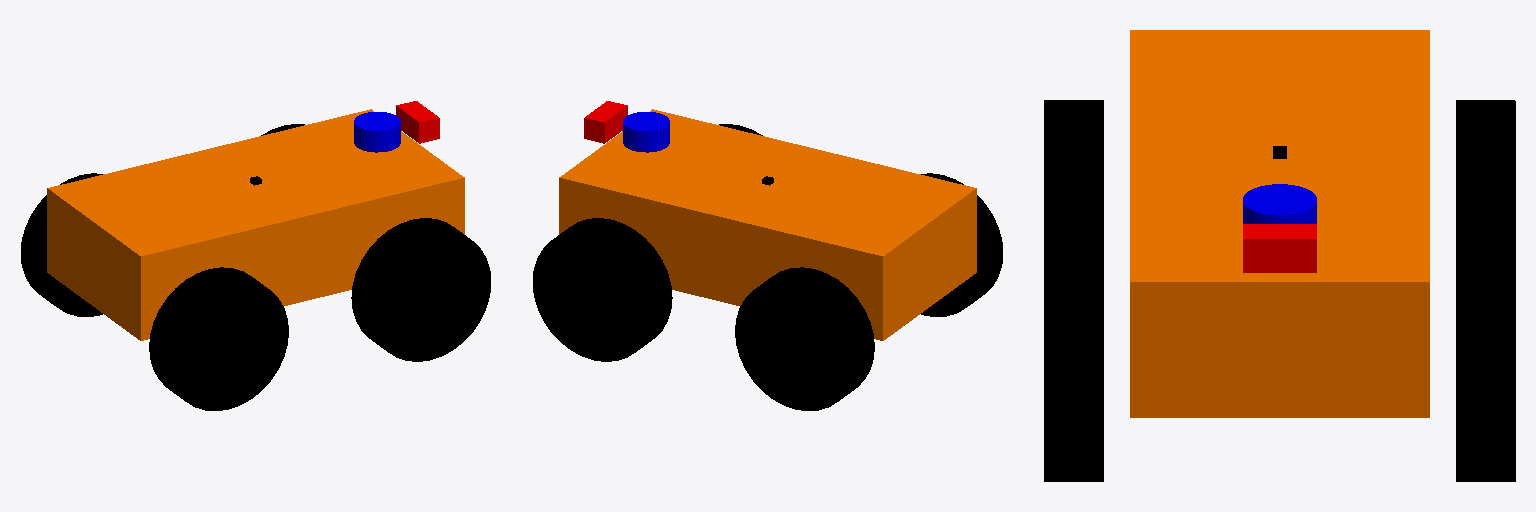
The robot description file, URDF, robot "delivery_robot":
<?xml version="1.0" ?>
<!-- =================================================================================== -->
<!-- |    This document was autogenerated by xacro from src/simulation/urdf/robot.urdf.xacro | -->
<!-- |    EDITING THIS FILE BY HAND IS NOT RECOMMENDED                                 | -->
<!-- =================================================================================== -->
<robot name="delivery_robot">
  <link name="base_footprint"/>
  <link name="base_link">
    <visual>
      <geometry>
        <box size="0.8 0.4 0.2"/>
      </geometry>
      <material name="orange">
        <color rgba="1 0.5 0 1"/>
      </material>
    </visual>
    <collision>
      <geometry>
        <box size="0.8 0.4 0.2"/>
      </geometry>
    </collision>
    <inertial>
      <mass value="20.0"/>
      <inertia ixx="1.1333333333333337" ixy="0" ixz="0" iyy="1.3333333333333337" iyz="0" izz="0.3333333333333334"/>
    </inertial>
  </link>
  <joint name="base_joint" type="fixed">
    <parent link="base_footprint"/>
    <child link="base_link"/>
    <origin rpy="0 0 0" xyz="0 0 0.15"/>
  </joint>
  <link name="rear_left_wheel">
    <visual>
      <geometry>
        <cylinder length="0.08" radius="0.15"/>
      </geometry>
      <material name="black">
        <color rgba="0 0 0 1"/>
      </material>
    </visual>
    <collision>
      <geometry>
        <cylinder length="0.08" radius="0.15"/>
      </geometry>
    </collision>
    <inertial>
      <mass value="2.0"/>
      <inertia ixx="0.012316666666666665" ixy="0" ixz="0" iyy="0.012316666666666665" iyz="0" izz="0.0225"/>
    </inertial>
  </link>
  <joint name="rear_left_wheel_joint" type="continuous">
    <parent link="base_link"/>
    <child link="rear_left_wheel"/>
    <origin rpy="-1.5707 0 0" xyz="-0.25 0.275 -0.1"/>
    <dynamics damping="0.5" friction="0.1"/>
    <axis xyz="0 0 1"/>
  </joint>
  <link name="rear_right_wheel">
    <visual>
      <geometry>
        <cylinder length="0.08" radius="0.15"/>
      </geometry>
      <material name="black">
        <color rgba="0 0 0 1"/>
      </material>
    </visual>
    <collision>
      <geometry>
        <cylinder length="0.08" radius="0.15"/>
      </geometry>
    </collision>
    <inertial>
      <mass value="2.0"/>
      <inertia ixx="0.012316666666666665" ixy="0" ixz="0" iyy="0.012316666666666665" iyz="0" izz="0.0225"/>
    </inertial>
  </link>
  <joint name="rear_right_wheel_joint" type="continuous">
    <parent link="base_link"/>
    <child link="rear_right_wheel"/>
    <origin rpy="-1.5707 0 0" xyz="-0.25 -0.275 -0.1"/>
    <dynamics damping="0.5" friction="0.1"/>
    <axis xyz="0 0 1"/>
  </joint>
  <link name="front_left_steering_link">
    <inertial>
      <mass value="0.1"/>
      <inertia ixx="0.01" ixy="0" ixz="0" iyy="0.01" iyz="0" izz="0.01"/>
    </inertial>
  </link>
  <joint name="front_left_steering_joint" type="revolute">
    <parent link="base_link"/>
    <child link="front_left_steering_link"/>
    <origin rpy="0 0 0" xyz="0.25 0.275 -0.1"/>
    <axis xyz="0 0 1"/>
    <limit effort="100" lower="-0.6" upper="0.6" velocity="1.0"/>
  </joint>
  <link name="front_left_wheel">
    <visual>
      <geometry>
        <cylinder length="0.08" radius="0.15"/>
      </geometry>
      <material name="black">
        <color rgba="0 0 0 1"/>
      </material>
    </visual>
    <collision>
      <geometry>
        <cylinder length="0.08" radius="0.15"/>
      </geometry>
    </collision>
    <inertial>
      <mass value="2.0"/>
      <inertia ixx="0.012316666666666665" ixy="0" ixz="0" iyy="0.012316666666666665" iyz="0" izz="0.0225"/>
    </inertial>
  </link>
  <joint name="front_left_wheel_joint" type="continuous">
    <parent link="front_left_steering_link"/>
    <child link="front_left_wheel"/>
    <origin rpy="-1.5707 0 0" xyz="0 0 0"/>
    <dynamics damping="0.5" friction="0.1"/>
    <axis xyz="0 0 1"/>
  </joint>
  <link name="front_right_steering_link">
    <inertial>
      <mass value="0.1"/>
      <inertia ixx="0.01" ixy="0" ixz="0" iyy="0.01" iyz="0" izz="0.01"/>
    </inertial>
  </link>
  <joint name="front_right_steering_joint" type="revolute">
    <parent link="base_link"/>
    <child link="front_right_steering_link"/>
    <origin rpy="0 0 0" xyz="0.25 -0.275 -0.1"/>
    <axis xyz="0 0 1"/>
    <limit effort="100" lower="-0.6" upper="0.6" velocity="1.0"/>
  </joint>
  <link name="front_right_wheel">
    <visual>
      <geometry>
        <cylinder length="0.08" radius="0.15"/>
      </geometry>
      <material name="black">
        <color rgba="0 0 0 1"/>
      </material>
    </visual>
    <collision>
      <geometry>
        <cylinder length="0.08" radius="0.15"/>
      </geometry>
    </collision>
    <inertial>
      <mass value="2.0"/>
      <inertia ixx="0.012316666666666665" ixy="0" ixz="0" iyy="0.012316666666666665" iyz="0" izz="0.0225"/>
    </inertial>
  </link>
  <joint name="front_right_wheel_joint" type="continuous">
    <parent link="front_right_steering_link"/>
    <child link="front_right_wheel"/>
    <origin rpy="-1.5707 0 0" xyz="0 0 0"/>
    <dynamics damping="0.5" friction="0.1"/>
    <axis xyz="0 0 1"/>
  </joint>
  <link name="lidar_link">
    <visual>
      <geometry>
        <cylinder length="0.05" radius="0.05"/>
      </geometry>
      <material name="blue">
        <color rgba="0 0 1 1"/>
      </material>
    </visual>
  </link>
  <joint name="lidar_joint" type="fixed">
    <parent link="base_link"/>
    <child link="lidar_link"/>
    <origin rpy="0 0 0" xyz="0.30000000000000004 0 0.15000000000000002"/>
  </joint>
  <link name="camera_link">
    <visual>
      <geometry>
        <box size="0.05 0.1 0.05"/>
      </geometry>
      <material name="red">
        <color rgba="1 0 0 1"/>
      </material>
    </visual>
  </link>
  <joint name="camera_joint" type="fixed">
    <parent link="base_link"/>
    <child link="camera_link"/>
    <origin rpy="0 0 0" xyz="0.4 0 0.15"/>
  </joint>
  <link name="gps_link"/>
  <joint name="gps_joint" type="fixed">
    <parent link="base_link"/>
    <child link="gps_link"/>
    <origin rpy="0 0 0" xyz="0 0 0"/>
  </joint>
  <link name="imu_link">
    <visual>
      <geometry>
        <box size="0.02 0.02 0.02"/>
      </geometry>
      <material name="black">
        <color rgba="0 0 0 1"/>
      </material>
    </visual>
  </link>
  <joint name="imu_joint" type="fixed">
    <parent link="base_link"/>
    <child link="imu_link"/>
    <origin rpy="0 0 0" xyz="0 0 0.1"/>
  </joint>
  <gazebo reference="imu_link">
    <sensor name="imu_sensor" type="imu">
      <always_on>1</always_on>
      <update_rate>100</update_rate>
      <visualize>true</visualize>
      <topic>/imu</topic>
      <imu>
        <angular_velocity>
          <x>
            <noise type="gaussian">
              <mean>0.0</mean>
              <stddev>2e-4</stddev>
            </noise>
          </x>
          <y>
            <noise type="gaussian">
              <mean>0.0</mean>
              <stddev>2e-4</stddev>
            </noise>
          </y>
          <z>
            <noise type="gaussian">
              <mean>0.05</mean>
              <!-- Simulate drift -->
              <stddev>2e-4</stddev>
            </noise>
          </z>
        </angular_velocity>
        <linear_acceleration>
          <x>
            <noise type="gaussian">
              <mean>0.0</mean>
              <stddev>1.7e-2</stddev>
            </noise>
          </x>
          <y>
            <noise type="gaussian">
              <mean>0.0</mean>
              <stddev>1.7e-2</stddev>
            </noise>
          </y>
          <z>
            <noise type="gaussian">
              <mean>0.0</mean>
              <stddev>1.7e-2</stddev>
            </noise>
          </z>
        </linear_acceleration>
      </imu>
    </sensor>
  </gazebo>
  <gazebo>
    <plugin filename="gz-sim-joint-state-publisher-system" name="gz::sim::systems::JointStatePublisher">
      <topic>joint_states</topic>
    </plugin>
    <plugin filename="gz-sim-ackermann-steering-system" name="gz::sim::systems::AckermannSteering">
      <left_joint>rear_left_wheel_joint</left_joint>
      <right_joint>rear_right_wheel_joint</right_joint>
      <left_steering_joint>front_left_steering_joint</left_steering_joint>
      <right_steering_joint>front_right_steering_joint</right_steering_joint>
      <wheel_separation>0.55</wheel_separation>
      <wheel_base>0.50</wheel_base>
      <wheel_radius>0.15</wheel_radius>
      <min_velocity>-5.0</min_velocity>
      <max_velocity>5.0</max_velocity>
      <min_acceleration>-3.0</min_acceleration>
      <max_acceleration>3.0</max_acceleration>
      <topic>/cmd_vel</topic>
      <odom_topic>/odom</odom_topic>
      <frame_id>odom</frame_id>
      <child_frame_id>base_footprint</child_frame_id>
      <publish_odom>false</publish_odom>
      <publish_odom_tf>false</publish_odom_tf>
      <publish_wheel_tf>true</publish_wheel_tf>
      <publish_wheel_joint_state>true</publish_wheel_joint_state>
    </plugin>
    <plugin filename="gz-sim-sensors-system" name="gz::sim::systems::Sensors">
      <render_engine>ogre2</render_engine>
    </plugin>
    <plugin filename="gz-sim-imu-system" name="gz::sim::systems::Imu">
  </plugin>
    <plugin filename="gz-sim-navsat-system" name="gz::sim::systems::NavSat">
  </plugin>
  </gazebo>
  <gazebo reference="camera_link">
    <sensor name="rgbd_camera" type="rgbd_camera">
      <camera>
        <horizontal_fov>1.047</horizontal_fov>
        <image>
          <width>640</width>
          <height>480</height>
        </image>
        <clip>
          <near>0.1</near>
          <far>100</far>
        </clip>
      </camera>
      <always_on>1</always_on>
      <update_rate>30</update_rate>
      <visualize>true</visualize>
      <topic>/camera/image</topic>
    </sensor>
  </gazebo>
  <gazebo reference="lidar_link">
    <sensor name="lidar" type="gpu_lidar">
      <pose>0 0 0 0 0 0</pose>
      <topic>/scan</topic>
      <update_rate>10</update_rate>
      <gz_frame_id>lidar_link</gz_frame_id>
      <ray>
        <scan>
          <horizontal>
            <samples>360</samples>
            <resolution>1</resolution>
            <min_angle>-3.14</min_angle>
            <max_angle>3.14</max_angle>
          </horizontal>
        </scan>
        <range>
          <min>0.1</min>
          <max>20.0</max>
        </range>
      </ray>
      <always_on>1</always_on>
      <visualize>true</visualize>
    </sensor>
  </gazebo>
  <gazebo reference="gps_link">
    <sensor name="gps" type="navsat">
      <topic>/gps/fix</topic>
      <update_rate>5</update_rate>
      <always_on>1</always_on>
    </sensor>
  </gazebo>
  <gazebo reference="rear_left_wheel">
    <mu1>1.0</mu1>
    <mu2>1.0</mu2>
    <kp>1e6</kp>
    <kd>1.0</kd>
    <minDepth>0.001</minDepth>
  </gazebo>
  <gazebo reference="rear_right_wheel">
    <mu1>1.0</mu1>
    <mu2>1.0</mu2>
    <kp>1e6</kp>
    <kd>1.0</kd>
    <minDepth>0.001</minDepth>
  </gazebo>
  <gazebo reference="front_left_wheel">
    <mu1>1.0</mu1>
    <mu2>1.0</mu2>
    <kp>1e6</kp>
    <kd>1.0</kd>
    <minDepth>0.001</minDepth>
  </gazebo>
  <gazebo reference="front_right_wheel">
    <mu1>1.0</mu1>
    <mu2>1.0</mu2>
    <kp>1e6</kp>
    <kd>1.0</kd>
    <minDepth>0.001</minDepth>
  </gazebo>
</robot>

--- Facts derived from the render (not from the file) ---
Views: 3 orthographic renders of the robot side by side, from view 1: azimuth 30°, elevation 25°; view 2: azimuth 150°, elevation 25°; view 3: azimuth 270°, elevation 25°.
Model delivery_robot with 12 links and 11 joints (2 revolute, 4 continuous, 5 fixed), rooted at base_footprint, posed every joint at zero.
Visible links, largest first — view 1: base_link, front_right_wheel, rear_right_wheel, rear_left_wheel, lidar_link, camera_link; view 2: base_link, front_left_wheel, rear_left_wheel, rear_right_wheel, lidar_link, camera_link; view 3: base_link, front_right_wheel, front_left_wheel, rear_left_wheel, rear_right_wheel, camera_link, lidar_link.
Link boxes in pixels (<box>): base_link: <box>47,109,464,340</box>; front_right_wheel: <box>351,218,490,361</box>; rear_right_wheel: <box>149,267,288,410</box>; rear_left_wheel: <box>21,173,102,316</box>; lidar_link: <box>354,112,400,152</box>; camera_link: <box>396,101,439,143</box>; base_link: <box>559,109,976,340</box>; front_left_wheel: <box>533,218,672,361</box>; rear_left_wheel: <box>735,267,874,410</box>; rear_right_wheel: <box>921,173,1002,316</box>; lidar_link: <box>623,112,669,152</box>; camera_link: <box>584,101,627,143</box>; base_link: <box>1130,30,1429,417</box>; front_right_wheel: <box>1044,258,1103,481</box>; front_left_wheel: <box>1456,258,1515,481</box>; rear_left_wheel: <box>1456,100,1515,258</box>; rear_right_wheel: <box>1044,100,1103,257</box>; camera_link: <box>1243,224,1316,272</box>; lidar_link: <box>1243,184,1316,223</box>.
Size in the robot's own frame: 0.825 by 0.63 by 0.425 metres.
Geometry: primitives only (box / cylinder / sphere), no mesh files.
